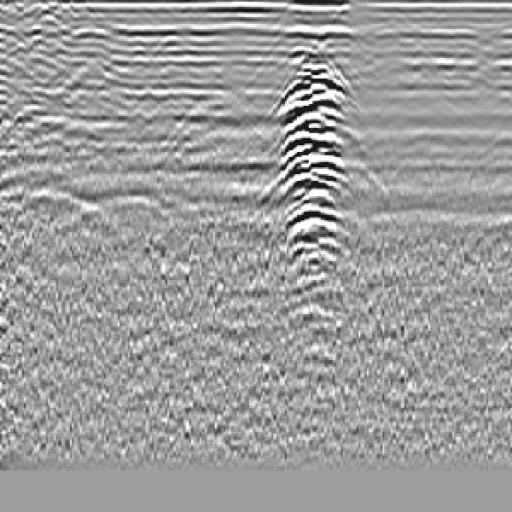metalic: (269, 48, 356, 310)
